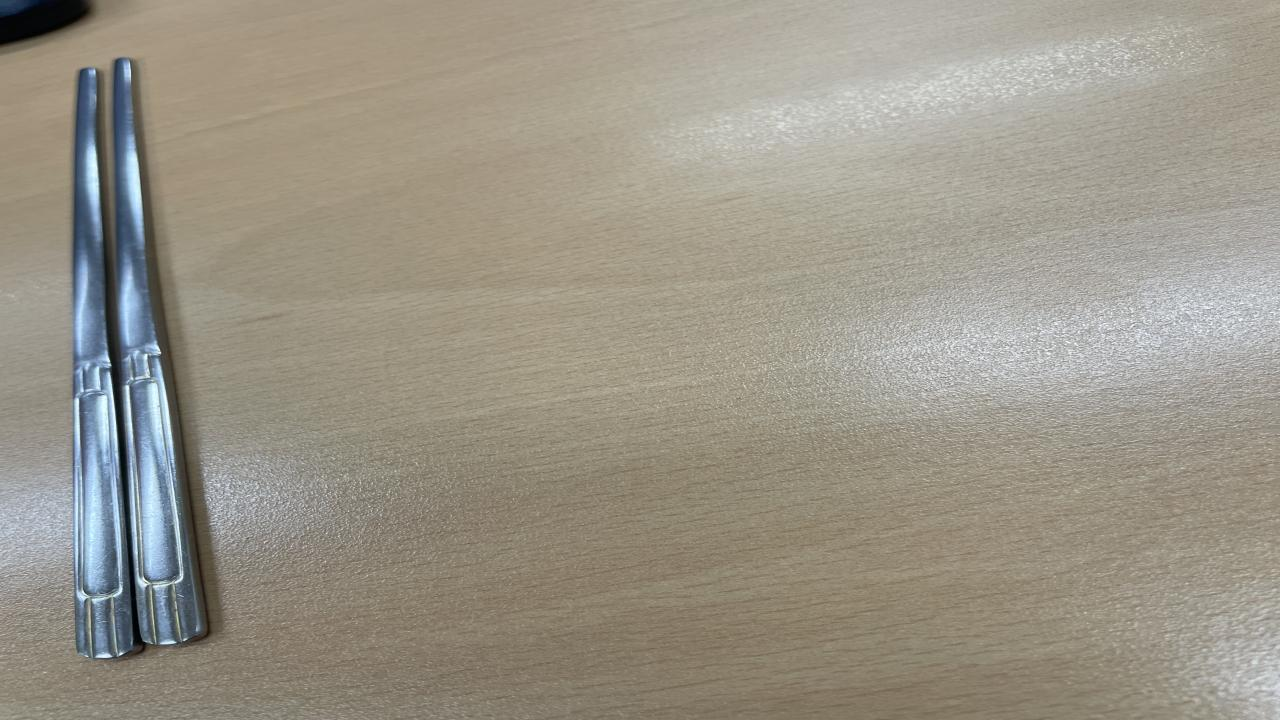chopstick: (72, 57, 209, 660)
